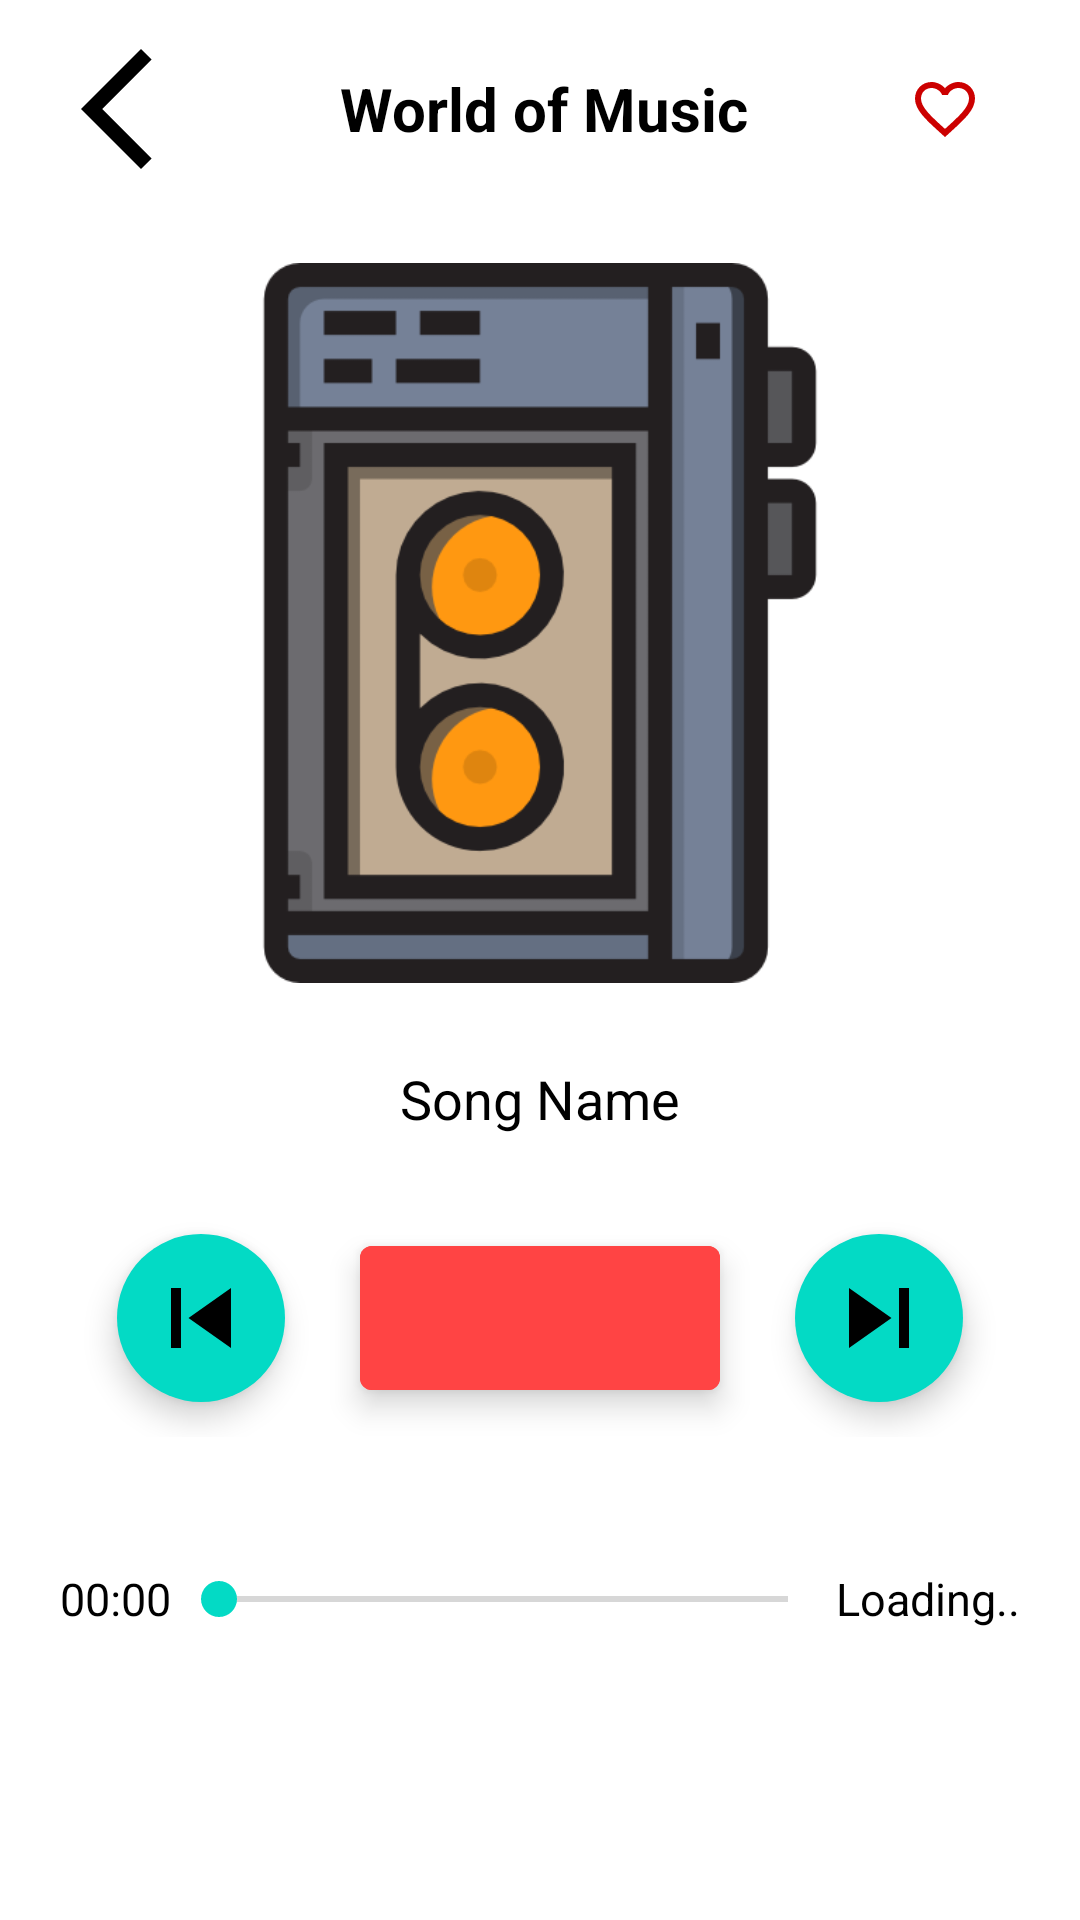

Point at icon controls on the screen. Image size 1080*1920, points as (x=x, y=y).
Back: (x=116, y=109)
Favourites: (x=945, y=109)
next: (x=879, y=1318)
previous: (x=201, y=1318)
